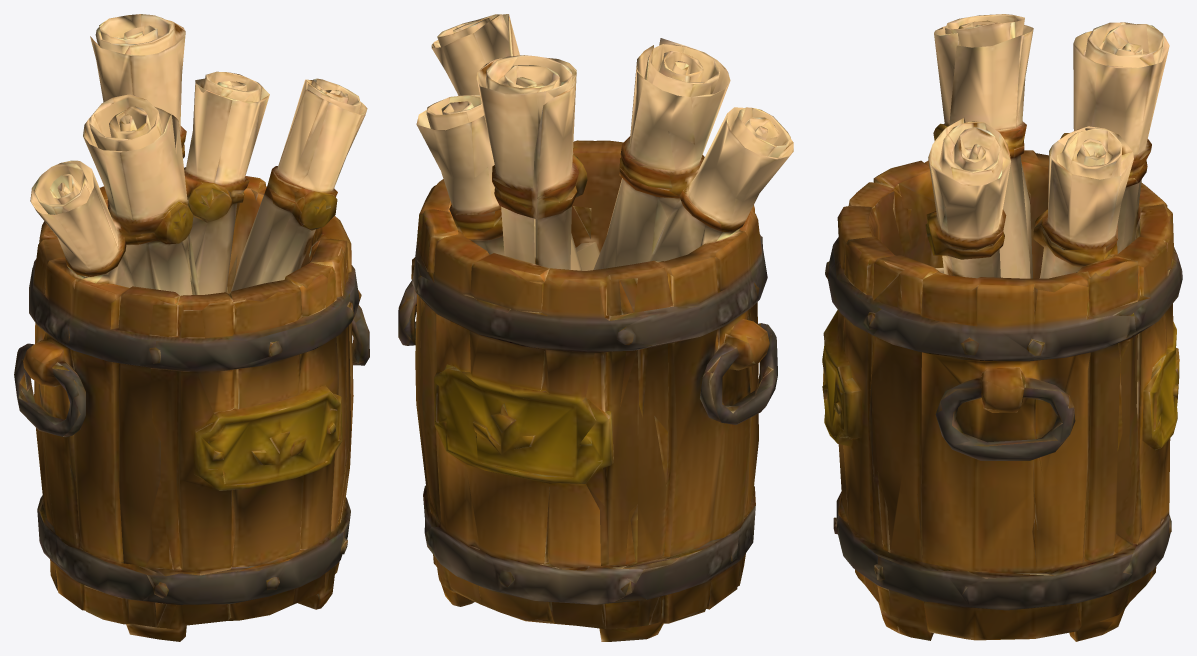
Rendered from scroll-barrel.glb.
3 views of the same model, side by side, from view 1: azimuth 30°, elevation 25°; view 2: azimuth 150°, elevation 25°; view 3: azimuth 270°, elevation 25° (orthographic). The views are drawn at different scales.
Parts seen in each view (by area): view 1: Mesh1.0; view 2: Mesh1.0; view 3: Mesh1.0.
Boxes of the visible parts, x1=… form: Mesh1.0: x1=14, y1=14, x2=369, y2=641; Mesh1.0: x1=398, y1=14, x2=793, y2=641; Mesh1.0: x1=822, y1=14, x2=1182, y2=641.
Size of the model in its own units: 1.27 by 1.9 by 1.12.
1 material, 1 textured.
